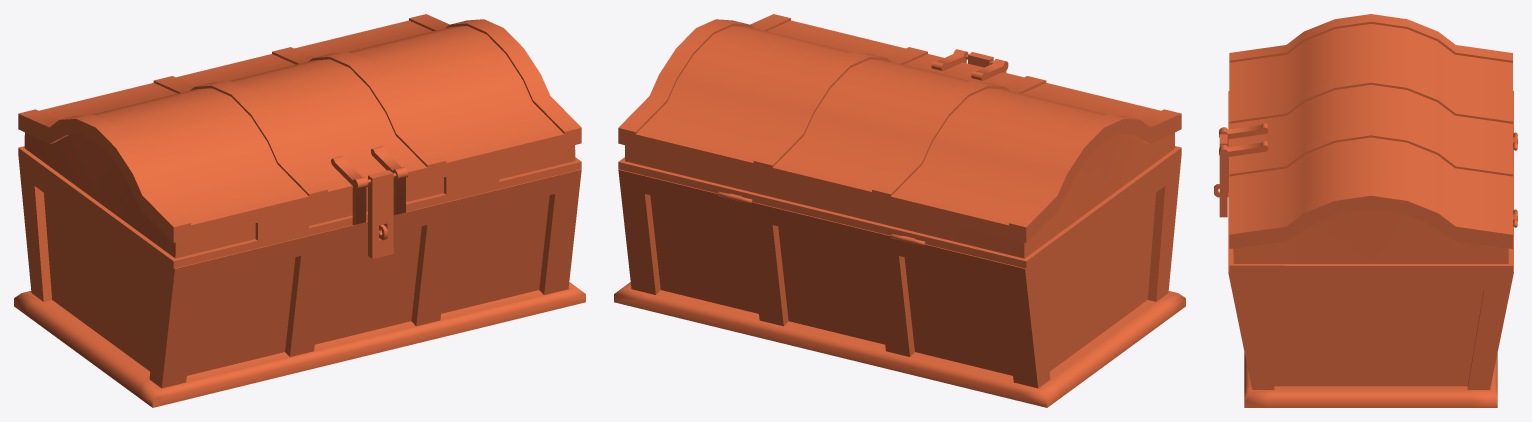
Rendered from Wooden_Box_Merge.fbx.
The picture shows the model from 3 angles, left to right: view 1: azimuth 30°, elevation 25°; view 2: azimuth 150°, elevation 25°; view 3: azimuth 270°, elevation 25°; orthographic projection. The views are drawn at different scales.
Visible parts, largest first — view 1: Wooden_Box_Merge; view 2: Wooden_Box_Merge; view 3: Wooden_Box_Merge.
Part boxes in pixels (x1=…): Wooden_Box_Merge: x1=14, y1=14, x2=585, y2=407; Wooden_Box_Merge: x1=614, y1=14, x2=1185, y2=407; Wooden_Box_Merge: x1=1214, y1=14, x2=1517, y2=407.
Size of the model in its own units: 0.3891 by 0.1944 by 0.259.
